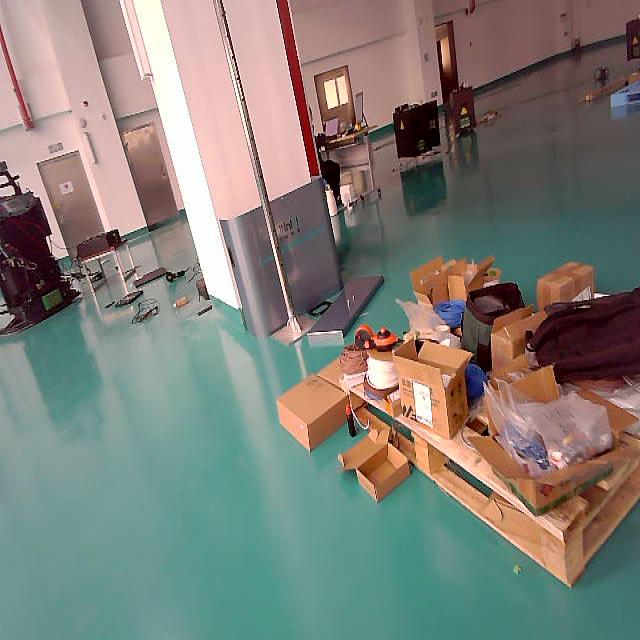euro: (336, 244, 640, 584)
